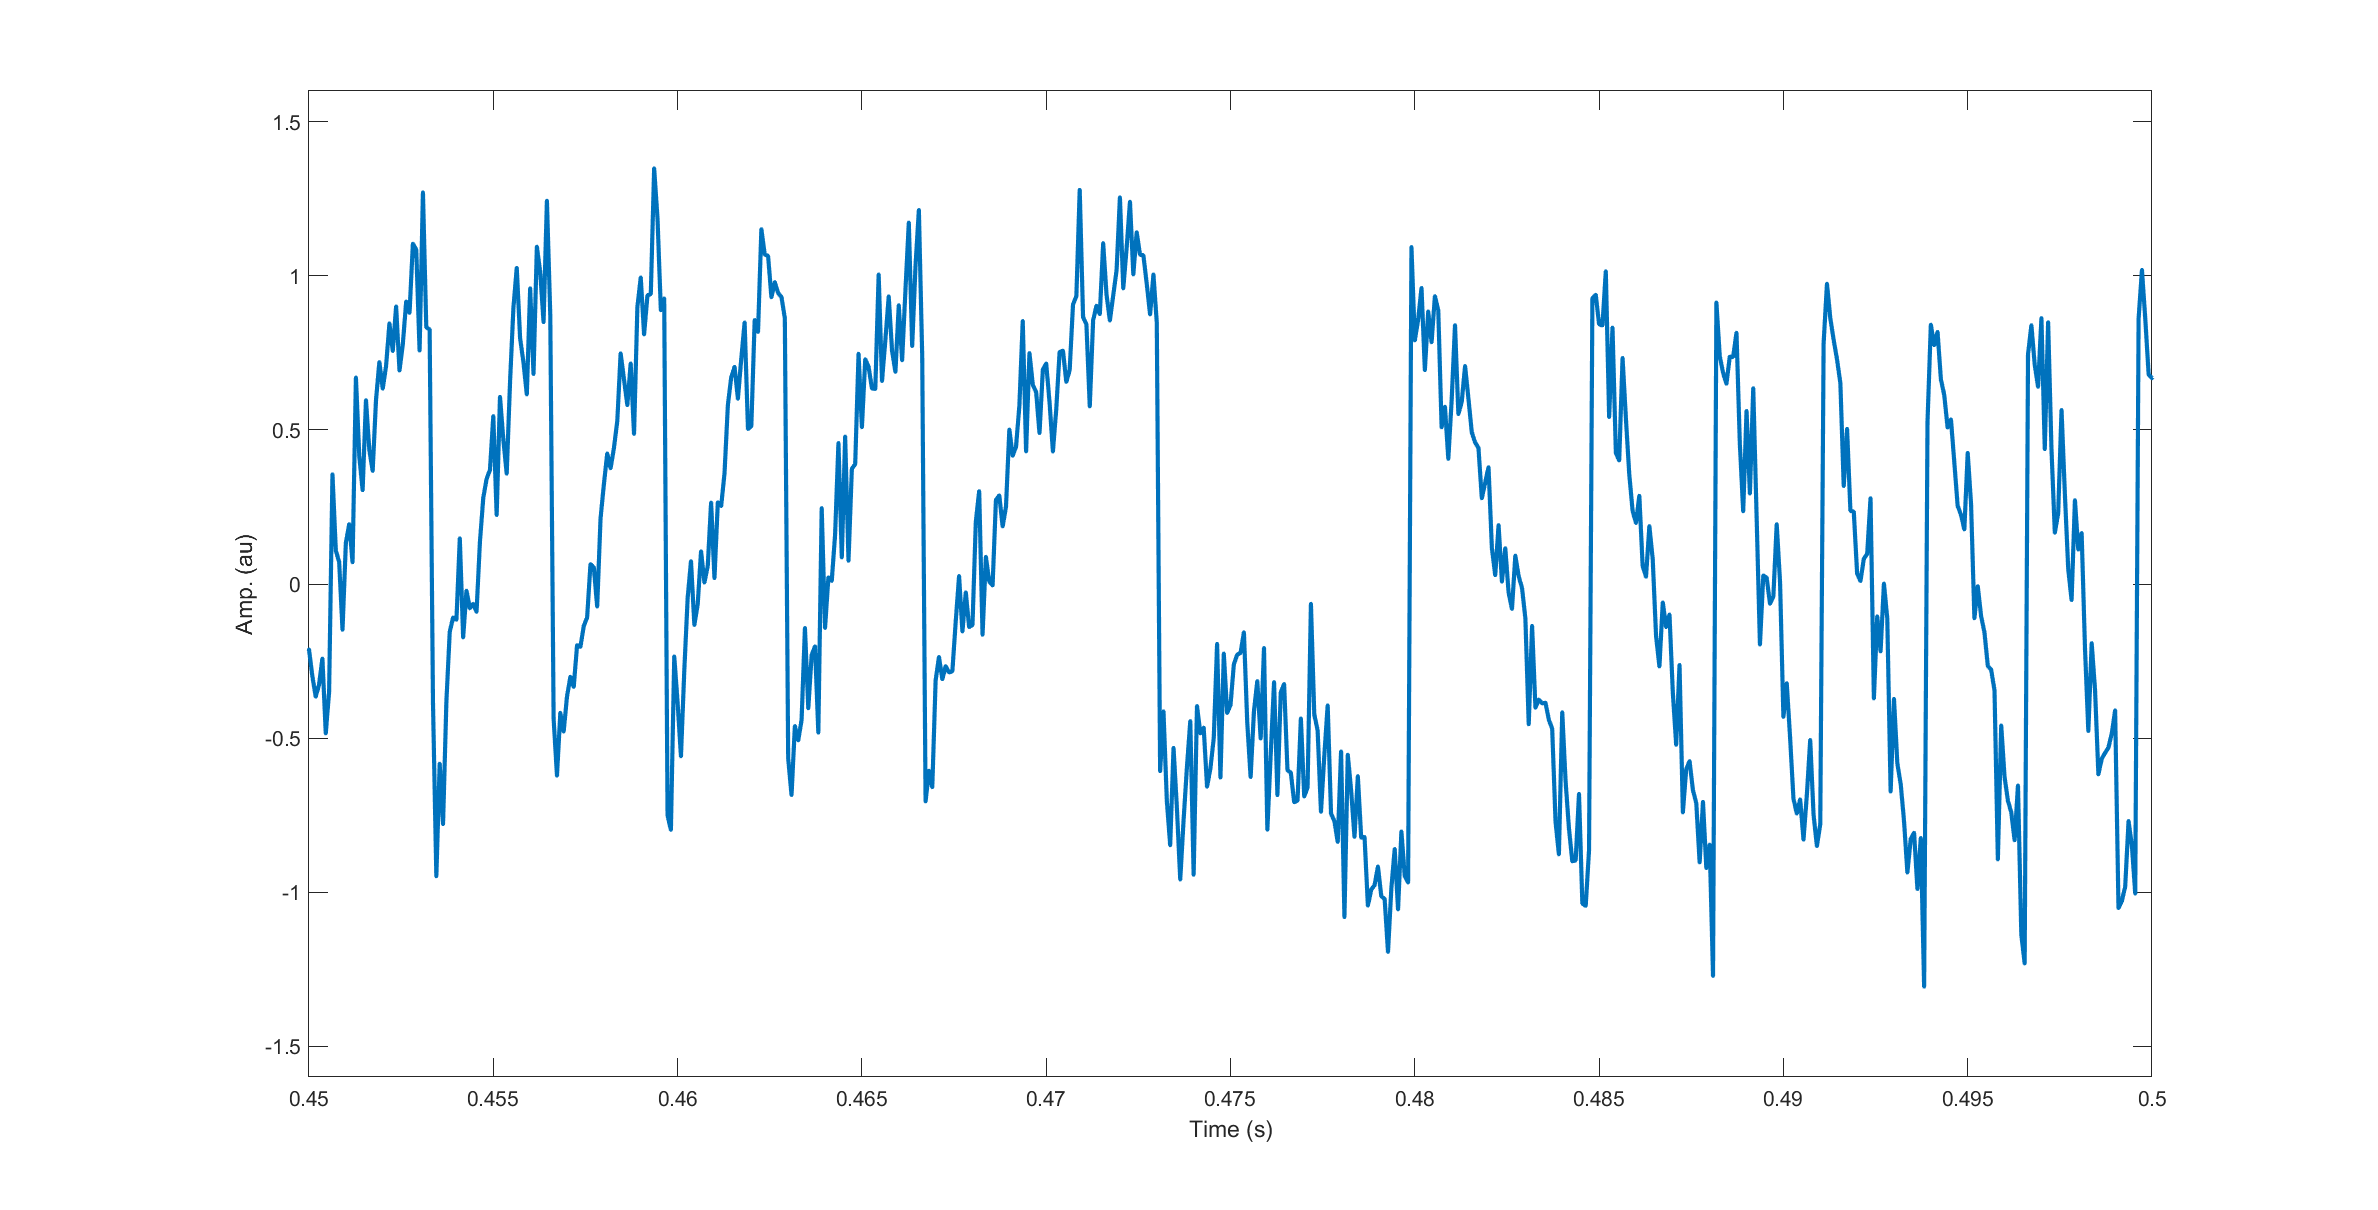negative_fringe: (1393, 228, 1562, 892), (1701, 282, 1815, 982), (2014, 304, 2122, 980), (1580, 248, 1687, 903), (1914, 312, 2006, 999), (1809, 275, 1906, 897)
positive_fringe: (940, 174, 1181, 863), (327, 167, 449, 877), (449, 174, 562, 853), (574, 147, 684, 832), (816, 198, 935, 786), (694, 205, 795, 784)
